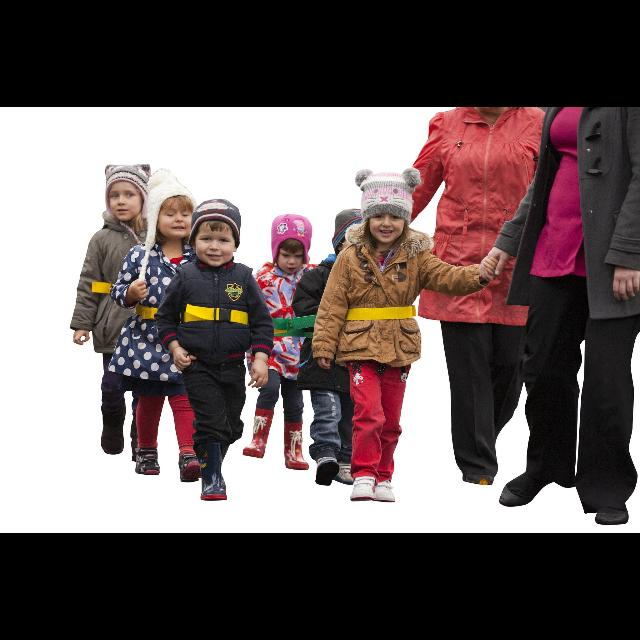head: (190, 212, 242, 268), (361, 187, 409, 245), (336, 210, 380, 264), (152, 186, 195, 238), (109, 168, 148, 222), (274, 231, 306, 275), (590, 107, 640, 131), (471, 106, 513, 130)
person: (379, 106, 569, 482), (312, 166, 500, 506), (152, 195, 276, 503), (104, 170, 216, 484), (70, 160, 170, 464), (290, 207, 388, 485), (240, 212, 326, 472)
